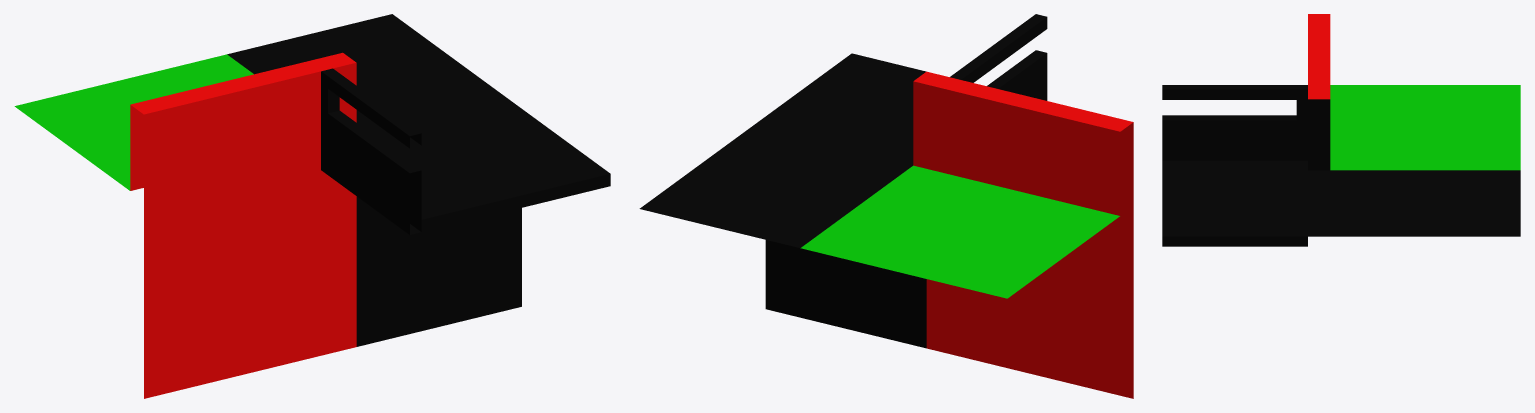
The picture shows the model from 3 angles, left to right: view 1: azimuth 30°, elevation 25°; view 2: azimuth 150°, elevation 25°; view 3: azimuth 270°, elevation 25°; orthographic projection. The views are drawn at different scales.
Parts seen in each view (by area): view 1: None_W_P_E_E_W_E_E_E_None; view 2: None_W_P_E_E_W_E_E_E_None; view 3: None_W_P_E_E_W_E_E_E_None.
Part boxes in pixels (left/top/right/bottom): None_W_P_E_E_W_E_E_E_None: left=14, top=14, right=610, bottom=398; None_W_P_E_E_W_E_E_E_None: left=639, top=14, right=1133, bottom=398; None_W_P_E_E_W_E_E_E_None: left=1162, top=14, right=1520, bottom=246.
Size of the model in its own units: 100 by 71.88 by 100.
